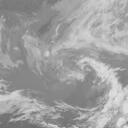cyclone: (37, 36, 102, 106)
